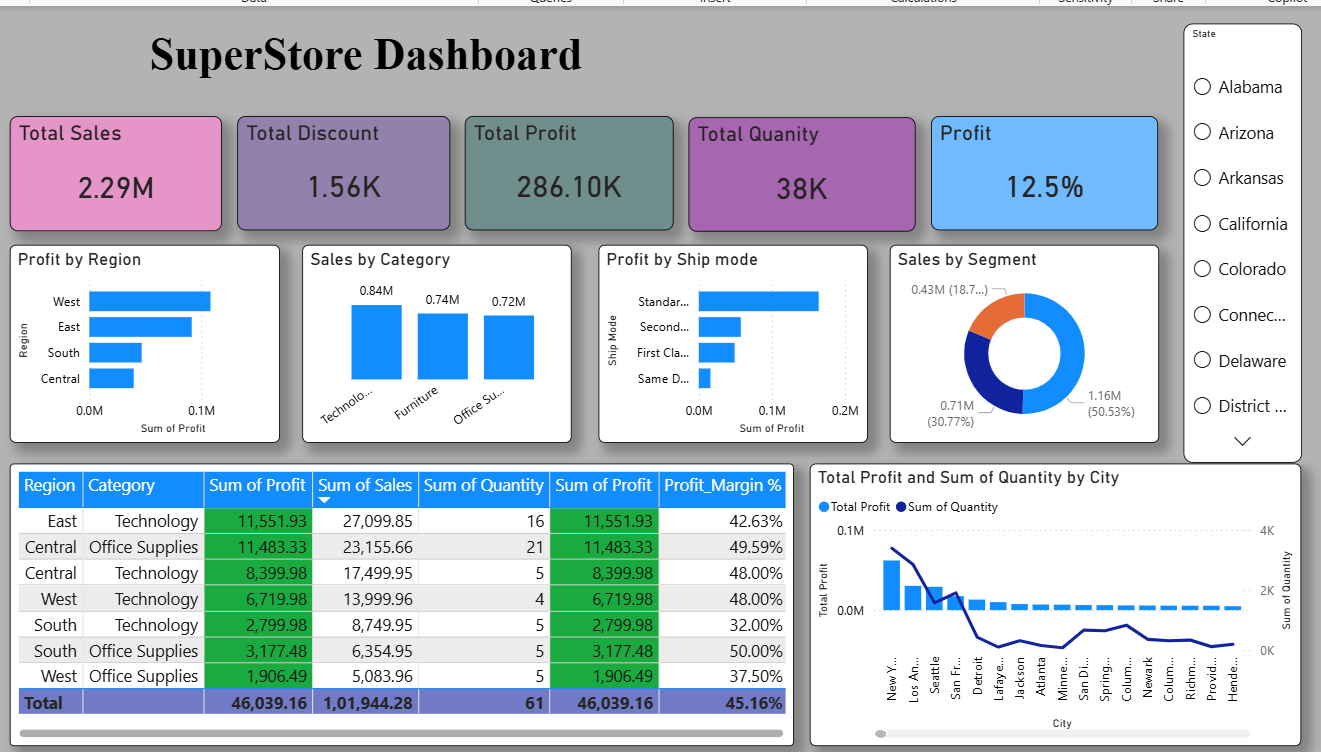

The page's visual inventory and layout, read from the dashboard file:
{"tool":"powerbi","page":{"name":"Page 1","canvas":[1280,720],"ordinal":0},"visuals":[{"type":"card","title":"Total Sales","fields":{"Values":["Sum(SampleSuperstore.Sales)"]},"box":[13.3,106.2,205.1,111],"z":0},{"type":"card","title":"Total Profit","fields":{"Values":["Sum(SampleSuperstore.Profit)"]},"box":[452.8,106.2,201.7,110.3],"z":1000},{"type":"card","title":"Total Quanity","fields":{"Values":["Sum(SampleSuperstore.Quantity)"]},"box":[668.8,107.6,219.2,110.3],"z":2000},{"type":"card","title":"Total Discount","fields":{"Values":["Sum(SampleSuperstore.Discount)"]},"box":[232.7,106.2,205.8,110.3],"z":3000},{"type":"card","title":"Profit","fields":{"Values":["SampleSuperstore.Profit_Margin %"]},"box":[902.4,106.2,219.2,110.3],"z":4000},{"type":"donutChart","title":"Sales by Segment","fields":{"Category":["SampleSuperstore.Segment"],"Y":["Sum(SampleSuperstore.Sales)"]},"box":[862,230,260,191],"z":5000},{"type":"columnChart","title":"Sales by Category","fields":{"Category":["SampleSuperstore.Category"],"Y":["Sum(SampleSuperstore.Sales)"]},"box":[295.9,230,260,191],"z":6000},{"type":"barChart","title":"Profit by Region","fields":{"Category":["SampleSuperstore.Region"],"Y":["Sum(SampleSuperstore.Profit)"]},"box":[13.4,230,260.9,191],"z":7000},{"type":"tableEx","fields":{"Values":["SampleSuperstore.Region","SampleSuperstore.Category","Sum(SampleSuperstore.Profit)","Sum(SampleSuperstore.Sales)","Sum(SampleSuperstore.Quantity)","Sum(SampleSuperstore.Profit)","SampleSuperstore.Profit_Margin %"]},"box":[13.4,441.1,757.1,273],"z":8000},{"type":"lineStackedColumnComboChart","fields":{"Category":["SampleSuperstore.City"],"Y":["SampleSuperstore.Total Profit"],"Y2":["Sum(SampleSuperstore.Quantity)"]},"box":[785.4,441.1,474.7,273],"z":9000},{"type":"barChart","title":"Profit by Ship mode","fields":{"Y":["Sum(SampleSuperstore.Profit)"],"Category":["SampleSuperstore.Ship Mode"]},"box":[581,230,260,191],"z":10000},{"type":"listSlicer","fields":{"Values":["SampleSuperstore.State"]},"box":[1145.8,17.5,114.3,423.6],"z":11000},{"type":"textbox","box":[21.7,16.9,670.8,65.1],"z":12000}]}

Visuals, with their boxes in screenshot pixels (x1, y1, x2, y2):
"Total Sales" card: 27,122,236,235
"Total Profit" card: 475,122,680,234
"Total Quanity" card: 694,123,918,236
"Total Discount" card: 251,122,460,234
"Profit" card: 932,122,1155,234
"Sales by Segment" donutChart: 891,248,1156,442
"Sales by Category" columnChart: 315,248,580,442
"Profit by Region" barChart: 27,248,293,442
tableEx - SampleSuperstore.Region x SampleSuperstore.Category: 27,463,798,741
lineStackedColumnComboChart - SampleSuperstore.City x SampleSuperstore.Total Profit: 813,463,1296,741
"Profit by Ship mode" barChart: 605,248,870,442
listSlicer - SampleSuperstore.State: 1180,32,1296,463
textbox: 36,31,719,97
